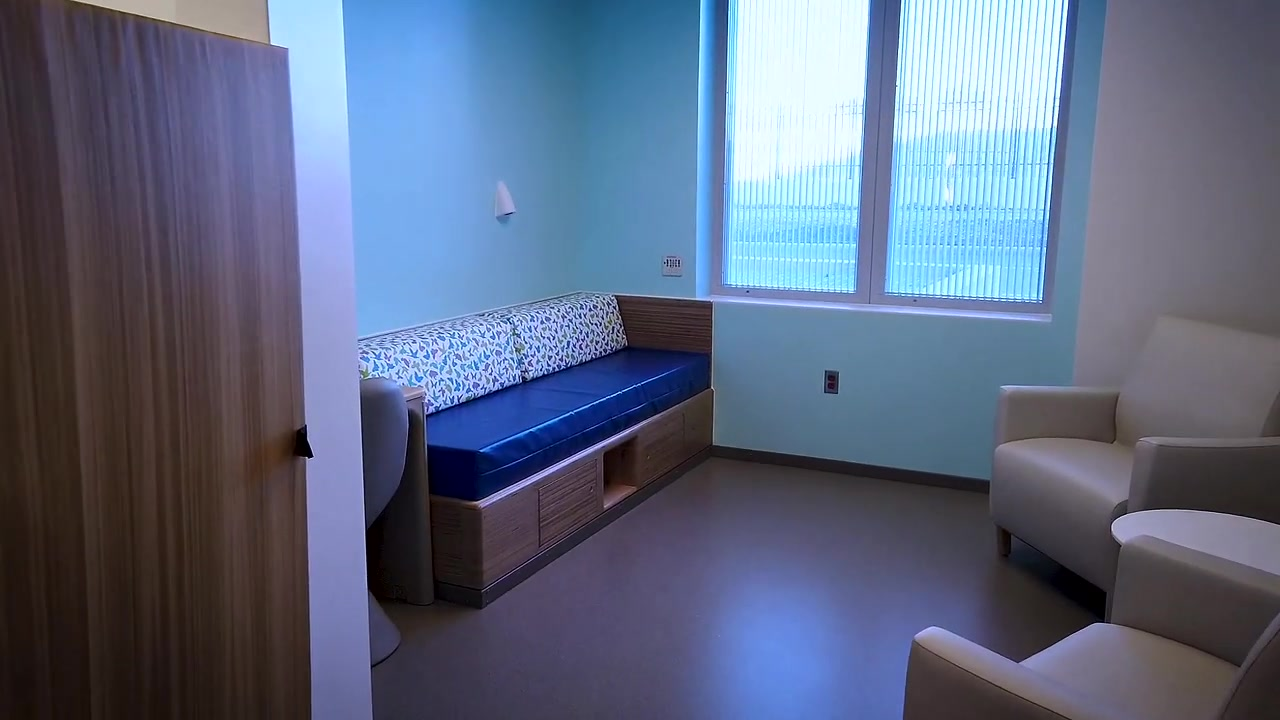sofa: (358, 291, 714, 606), (989, 312, 1280, 624), (901, 534, 1280, 720)
table: (1110, 508, 1280, 577)
